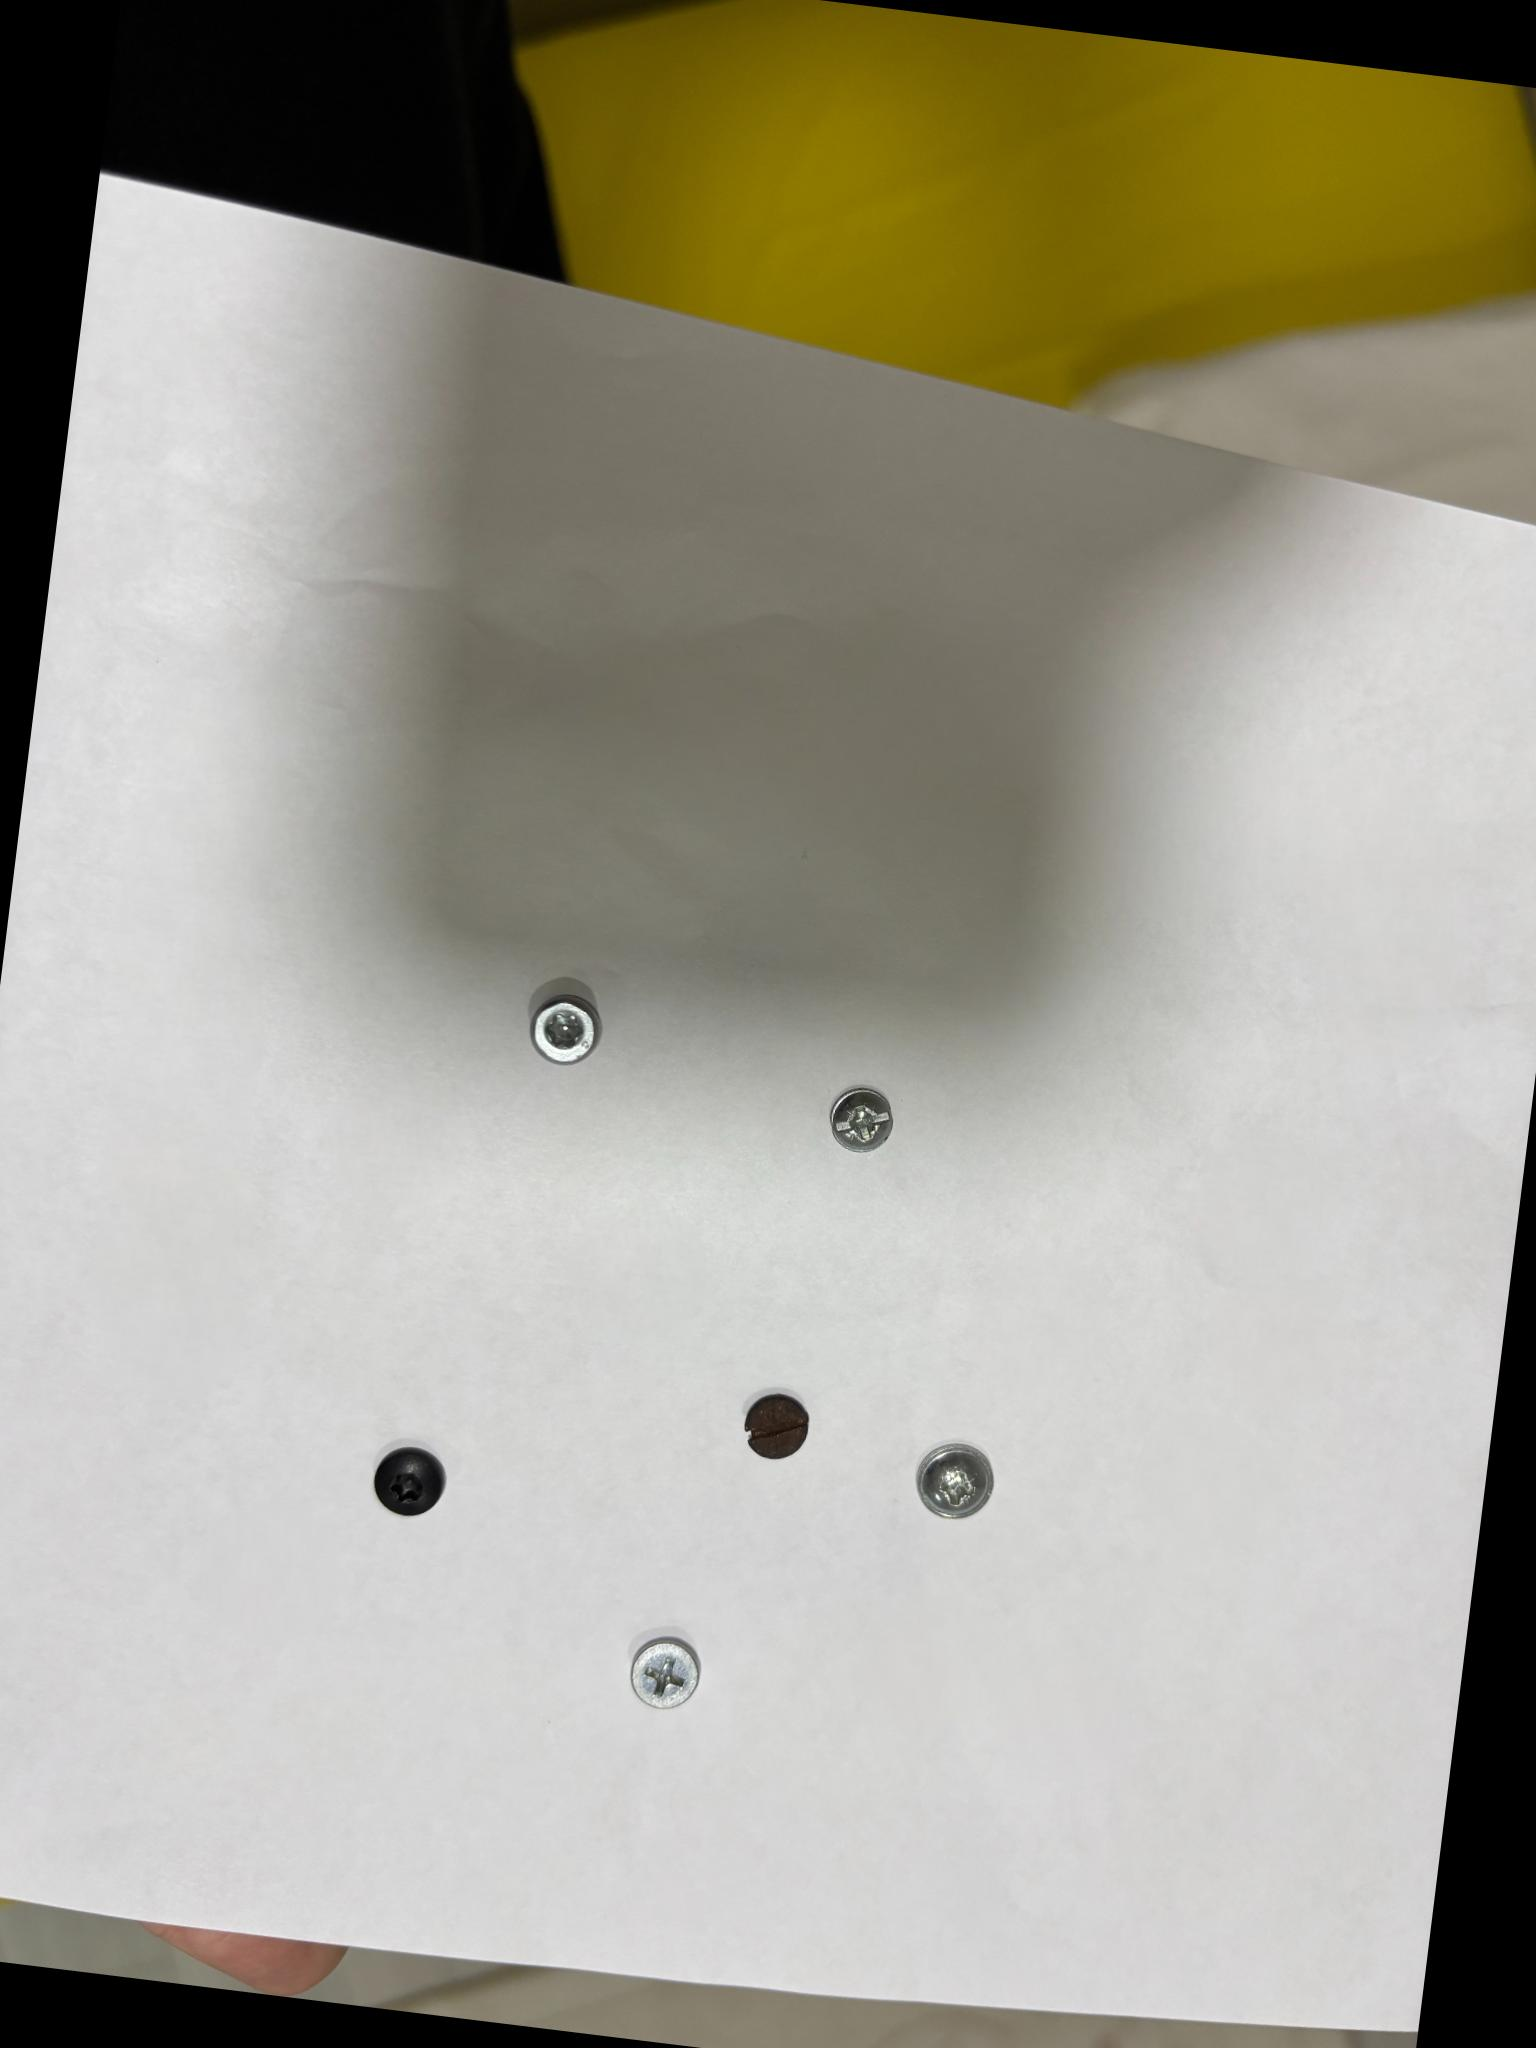H: (373, 1447, 444, 1514)
PH: (629, 1635, 699, 1708)
PZ: (915, 1443, 992, 1517), (829, 1087, 892, 1150)
SL: (744, 1392, 808, 1458)
T: (531, 993, 599, 1063)
